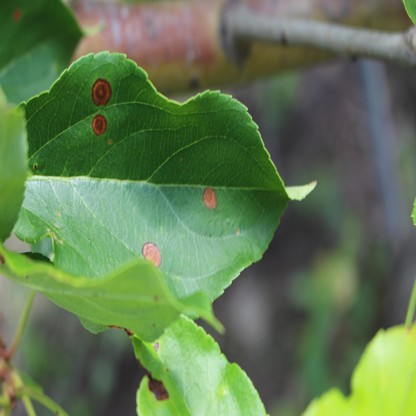rust: (137, 359, 168, 399), (91, 79, 112, 106), (142, 241, 162, 267), (92, 114, 106, 136), (203, 188, 217, 209), (108, 325, 132, 335), (154, 341, 159, 352), (235, 227, 240, 235), (108, 138, 111, 145)
